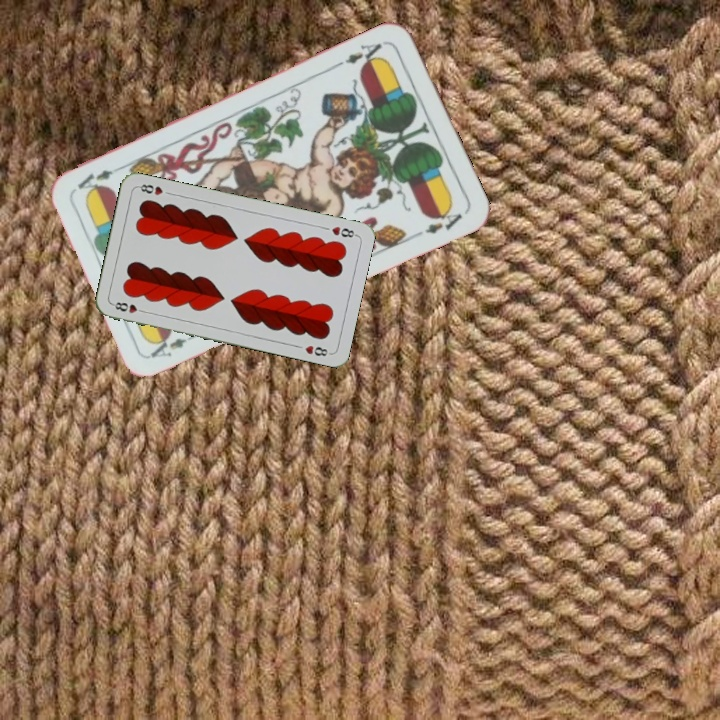EA: (333, 36, 389, 70), (146, 328, 203, 361)
H8: (109, 298, 149, 316), (328, 222, 359, 240)
